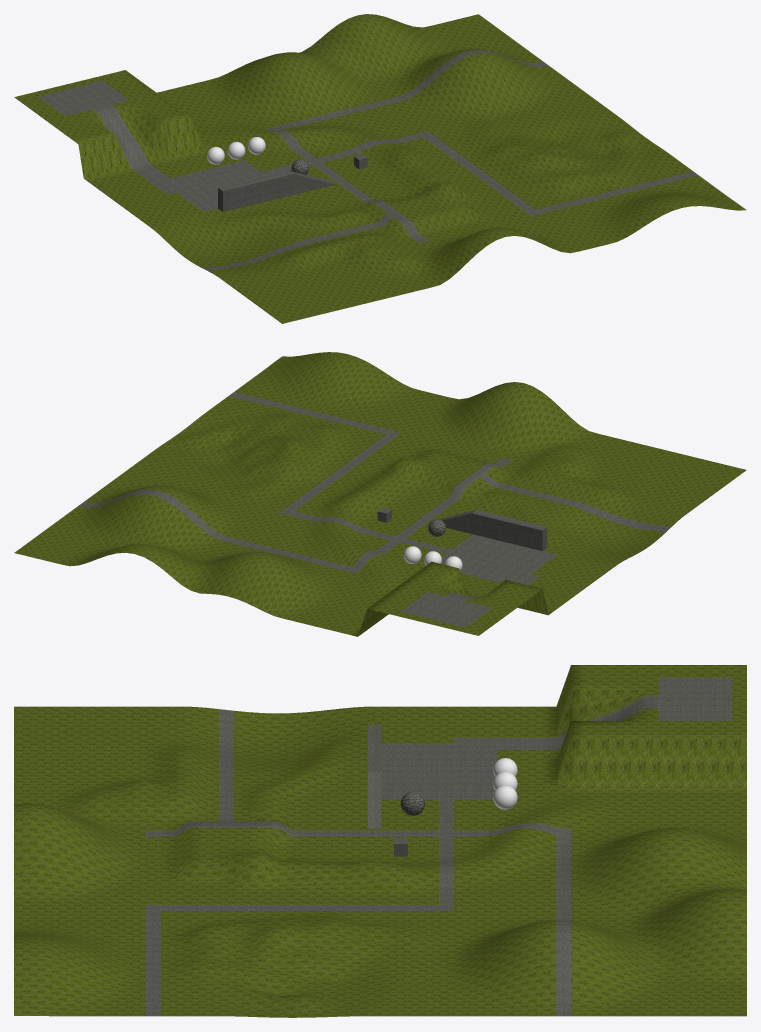
Rendered from StageMap.gltf.
3 views of the same model, one above another, from view 1: azimuth 30°, elevation 25°; view 2: azimuth 150°, elevation 25°; view 3: azimuth 270°, elevation 25° (orthographic). The views are drawn at different scales.
Visible parts, largest first — view 1: StageMap, Wall; view 2: StageMap, Wall; view 3: StageMap, Wall.
Boxes of the visible parts, left/top/right/bottom form: StageMap: left=14, top=14, right=746, bottom=323; Wall: left=218, top=170, right=335, bottom=211; StageMap: left=14, top=352, right=746, bottom=636; Wall: left=438, top=510, right=547, bottom=551; StageMap: left=14, top=665, right=746, bottom=1017; Wall: left=367, top=725, right=381, bottom=828.
Size of the model in its own units: 60 by 5.66 by 60.
Materials: 5 (2 with a texture image).
